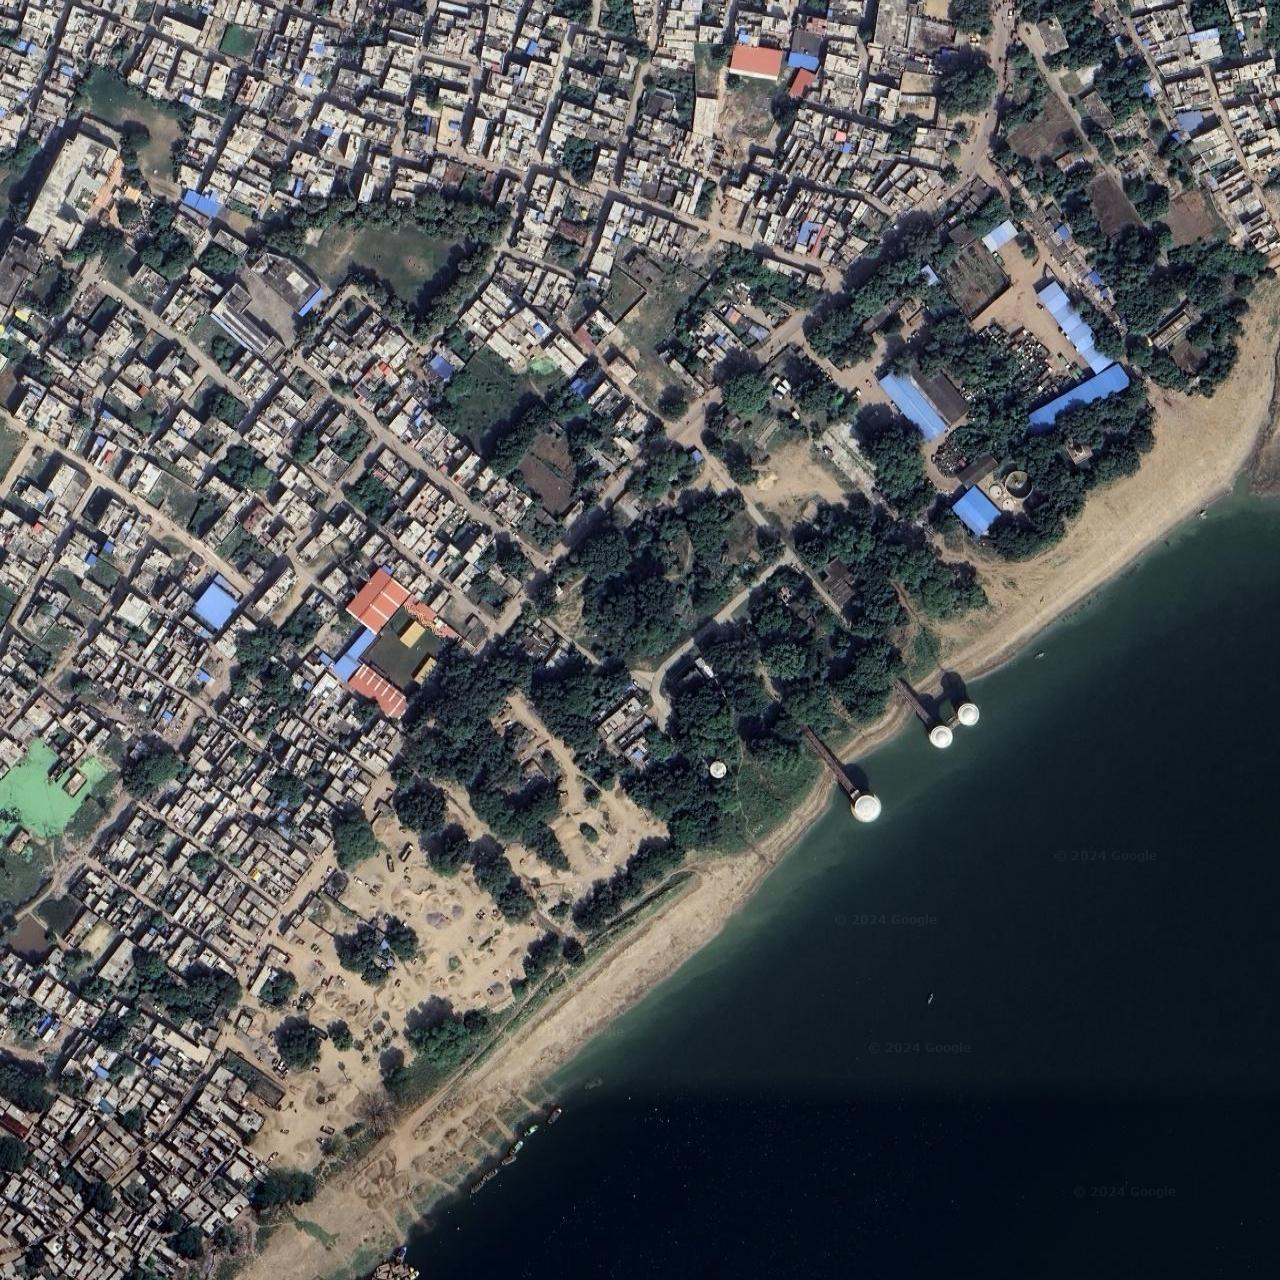greenery: (358, 0, 1273, 1123), (57, 54, 526, 340), (57, 948, 358, 1098), (18, 717, 199, 939), (334, 872, 415, 983), (224, 1148, 320, 1223), (325, 788, 397, 883)
house: (0, 124, 511, 701), (343, 9, 968, 369), (2, 429, 395, 949), (0, 954, 335, 1276), (0, 0, 342, 231)
water: (384, 498, 1275, 1280)
